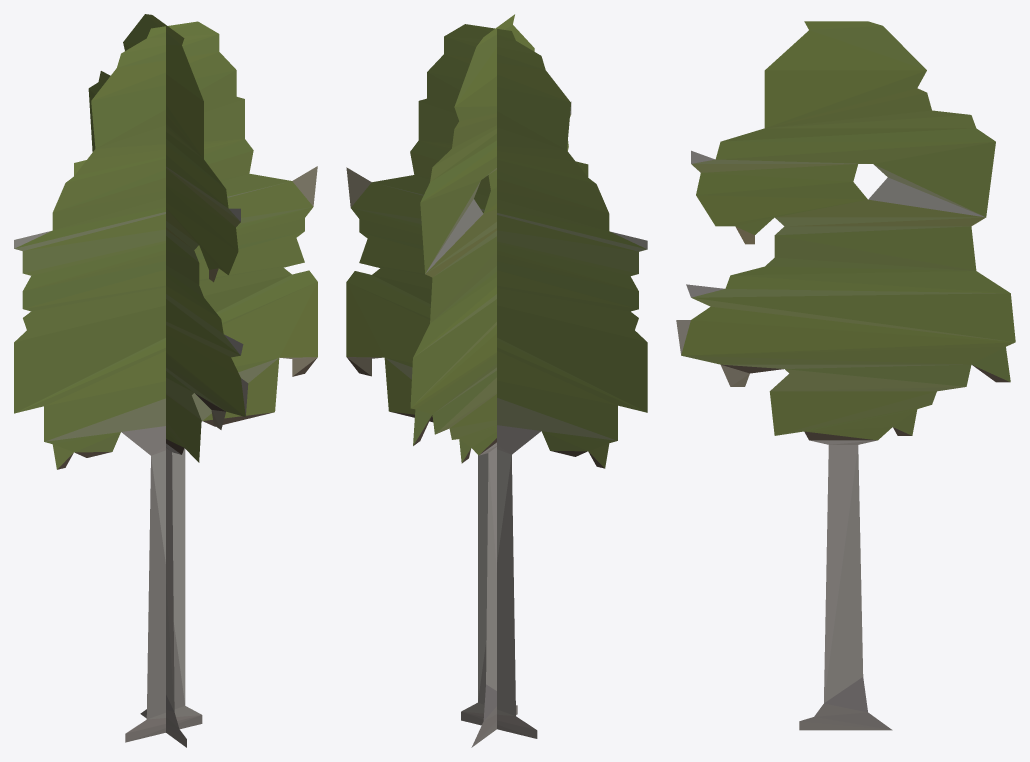
The model's file is bg_forest_birch_1_lod1.glb.
3 renders of one model, left to right at view 1: azimuth 30°, elevation 25°; view 2: azimuth 150°, elevation 25°; view 3: azimuth 270°, elevation 25°, orthographic.
Visible parts, largest first — view 1: body; view 2: body; view 3: body.
Part boxes in pixels (x1=…): body: x1=14, y1=14, x2=317, y2=747; body: x1=346, y1=14, x2=647, y2=747; body: x1=676, y1=21, x2=1015, y2=730.
Bounding box in the file's own units: 3.12 × 6.96 × 3.02.
